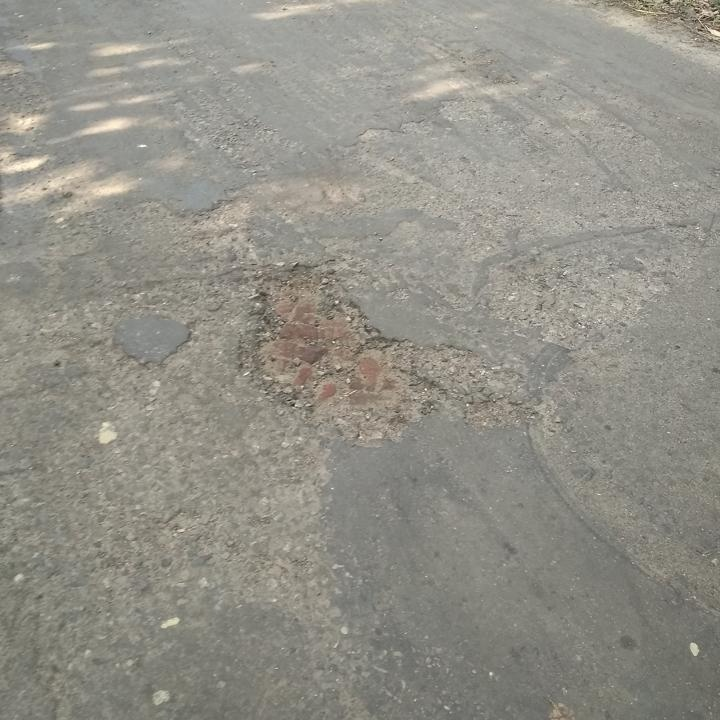pothole: (236, 254, 438, 441)
